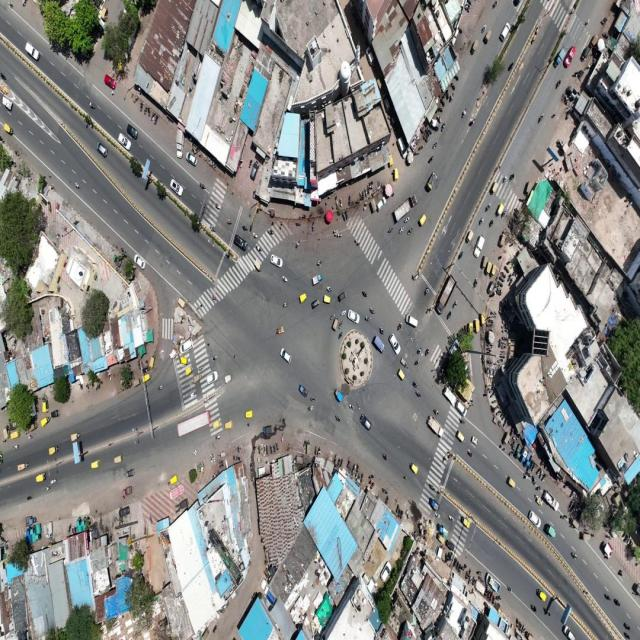3W: (424, 169, 439, 195), (241, 401, 254, 422), (488, 179, 500, 195), (416, 215, 429, 229), (394, 367, 406, 381), (409, 460, 419, 474), (524, 494, 533, 507), (251, 260, 260, 273), (465, 230, 474, 243), (482, 255, 490, 269), (168, 474, 179, 484), (497, 202, 506, 214), (213, 416, 221, 429), (470, 39, 478, 52), (41, 415, 51, 425), (492, 262, 498, 278), (114, 424, 124, 433), (180, 356, 189, 366), (436, 345, 442, 359), (485, 30, 492, 42), (312, 297, 319, 309), (192, 374, 201, 383), (226, 420, 234, 430), (178, 297, 186, 307), (184, 368, 193, 376), (300, 292, 307, 302), (90, 460, 100, 467), (323, 295, 330, 304), (332, 318, 338, 328), (482, 312, 487, 324), (225, 374, 231, 384)
Bus: (175, 410, 213, 436)
Cars: (440, 378, 457, 407), (472, 232, 487, 260), (168, 174, 183, 198), (116, 127, 131, 151), (527, 509, 543, 530), (277, 345, 294, 364), (389, 332, 402, 355), (134, 250, 147, 270), (270, 249, 283, 269), (178, 336, 194, 352), (105, 70, 118, 89), (234, 233, 247, 252), (95, 139, 108, 157), (500, 17, 510, 39), (457, 398, 467, 418), (128, 118, 138, 137), (348, 309, 360, 323), (360, 414, 371, 428), (186, 152, 198, 164), (206, 372, 219, 383), (406, 315, 418, 325)
LCV: (425, 412, 446, 440), (485, 571, 502, 598), (543, 486, 559, 509), (371, 332, 385, 355), (309, 270, 325, 286), (438, 520, 450, 540), (333, 388, 345, 404), (336, 289, 348, 304), (300, 383, 310, 396), (124, 482, 133, 496)
M2W: (254, 244, 264, 254), (471, 278, 480, 289), (310, 390, 318, 402), (531, 603, 539, 615), (378, 321, 385, 334), (227, 215, 234, 228), (386, 222, 393, 235), (562, 549, 570, 560), (506, 585, 514, 596), (395, 359, 402, 371), (87, 99, 94, 111), (74, 180, 81, 192), (307, 403, 314, 415), (501, 175, 509, 185), (585, 14, 590, 30), (335, 412, 341, 425), (461, 106, 467, 119), (509, 172, 515, 185), (551, 109, 557, 122), (402, 471, 408, 483), (507, 60, 515, 69), (406, 226, 412, 238), (554, 80, 562, 89), (153, 446, 160, 456), (101, 416, 108, 426), (353, 236, 360, 246), (458, 252, 465, 262), (397, 321, 404, 331), (216, 200, 222, 211), (556, 525, 562, 536), (478, 216, 486, 224), (447, 514, 455, 522), (277, 326, 284, 335), (169, 433, 176, 442), (209, 294, 218, 301), (240, 224, 247, 233), (452, 298, 458, 308), (198, 181, 204, 191), (252, 229, 258, 239), (198, 362, 204, 372), (468, 448, 473, 460), (430, 482, 435, 494), (538, 112, 544, 122), (268, 226, 273, 238), (103, 461, 110, 469), (210, 224, 217, 232), (110, 413, 116, 422), (489, 218, 495, 227), (295, 240, 301, 249), (413, 378, 418, 388), (366, 315, 371, 325), (232, 354, 238, 362), (512, 497, 518, 505), (417, 347, 422, 356), (283, 273, 288, 282), (496, 475, 501, 484), (383, 450, 387, 461), (469, 120, 475, 127), (329, 312, 335, 319), (361, 290, 367, 297), (282, 301, 288, 308), (536, 522, 542, 529), (212, 356, 218, 363), (316, 261, 322, 268), (340, 309, 346, 316), (521, 488, 526, 496), (369, 307, 374, 315), (554, 536, 558, 546), (598, 576, 603, 584), (350, 400, 353, 412), (87, 418, 93, 424), (339, 321, 343, 330), (327, 284, 333, 290)
Truck: (392, 184, 418, 224), (433, 275, 457, 316)
